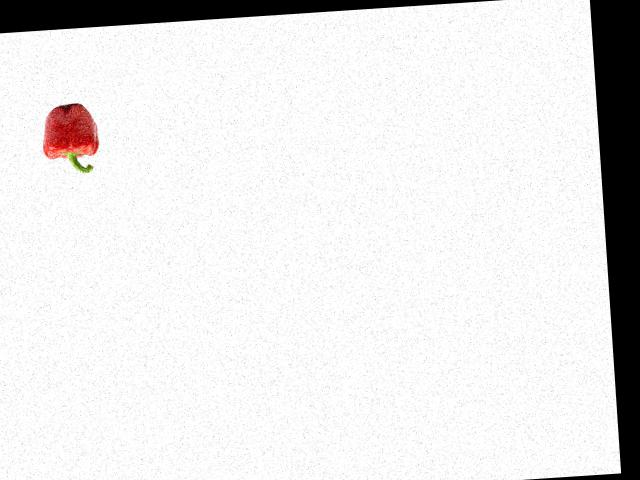bell_pepper: (36, 99, 104, 177)
